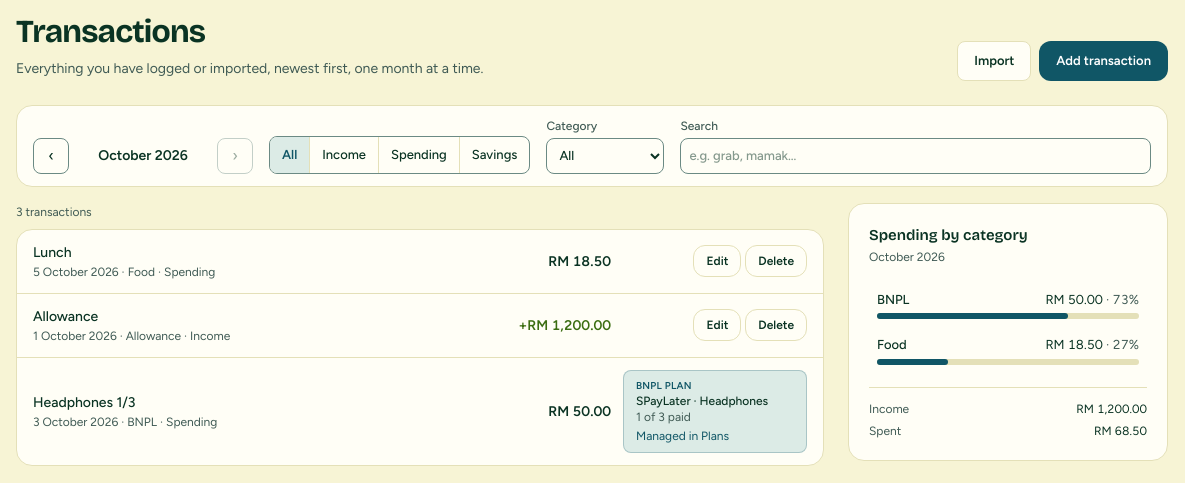
Test: TransactionsScreen › narrows the list as the person types, without asking the server again
Expected: the text "Lunch" is shown, [33,244,72,261]
In the search field labelled "Search": (916, 156) [680,138,1151,174], type "lun"
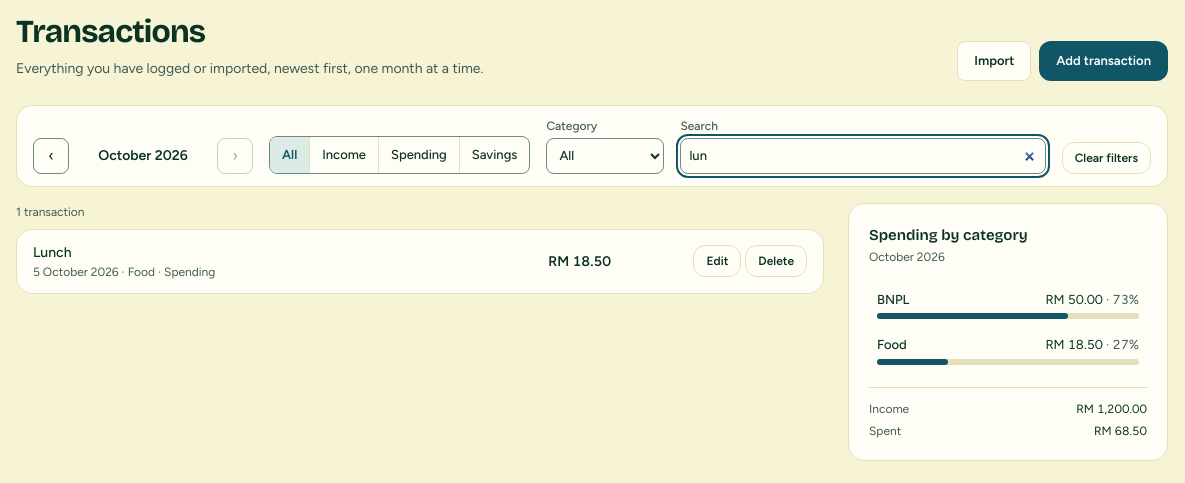
Expected: the text "Lunch" is shown, [33,244,72,261]
Result: the text "Headphones 1/3" is gone
Result: the text "1 transaction" is shown at [16,205,84,219]
